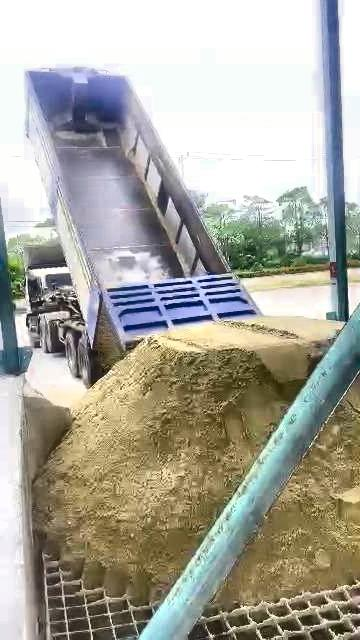sand: (36, 318, 339, 599), (220, 383, 359, 602), (22, 383, 71, 488)
